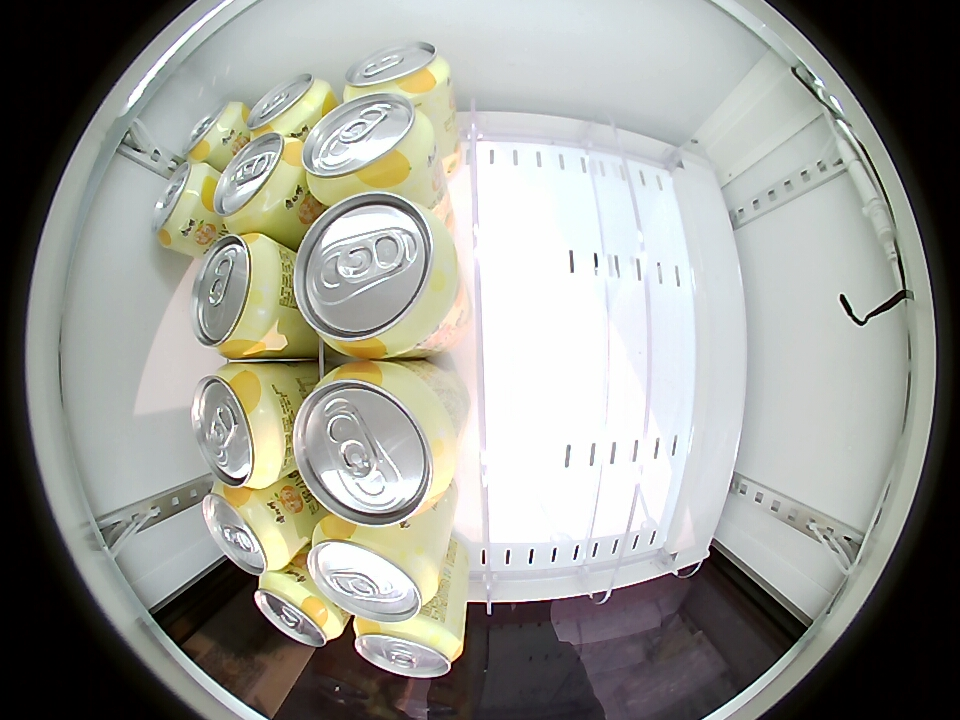mangguoxiaolao: (293, 192, 458, 359), (292, 362, 456, 527), (302, 92, 434, 200), (307, 520, 440, 623), (189, 232, 284, 359), (192, 364, 287, 489), (212, 132, 304, 231), (203, 486, 290, 576), (353, 614, 462, 677), (343, 42, 450, 103), (254, 573, 342, 647), (151, 160, 212, 249), (248, 74, 331, 137), (184, 101, 246, 163)
